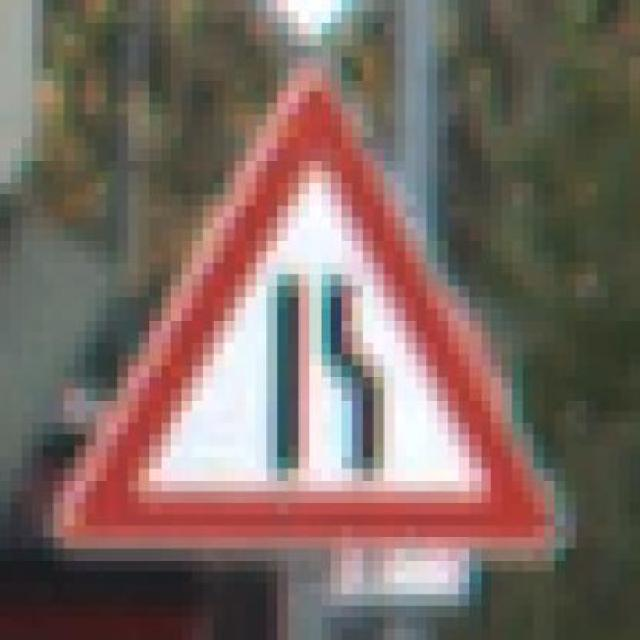-Road narrows on right: (29, 43, 574, 569)
